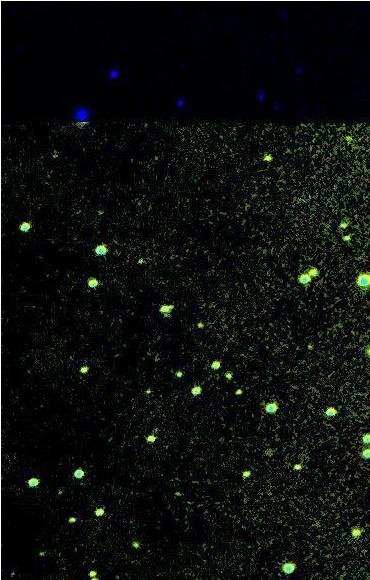star: (297, 259, 327, 289)
